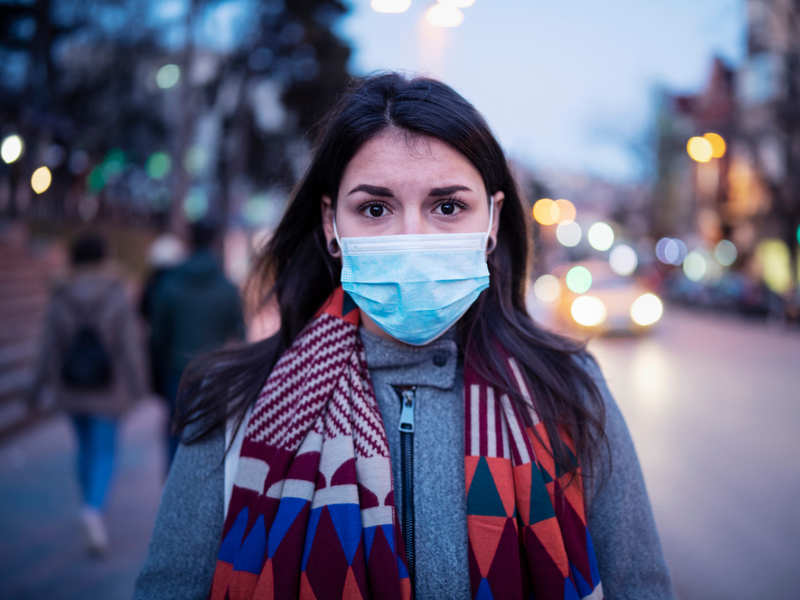with_mask: (333, 116, 484, 339)
